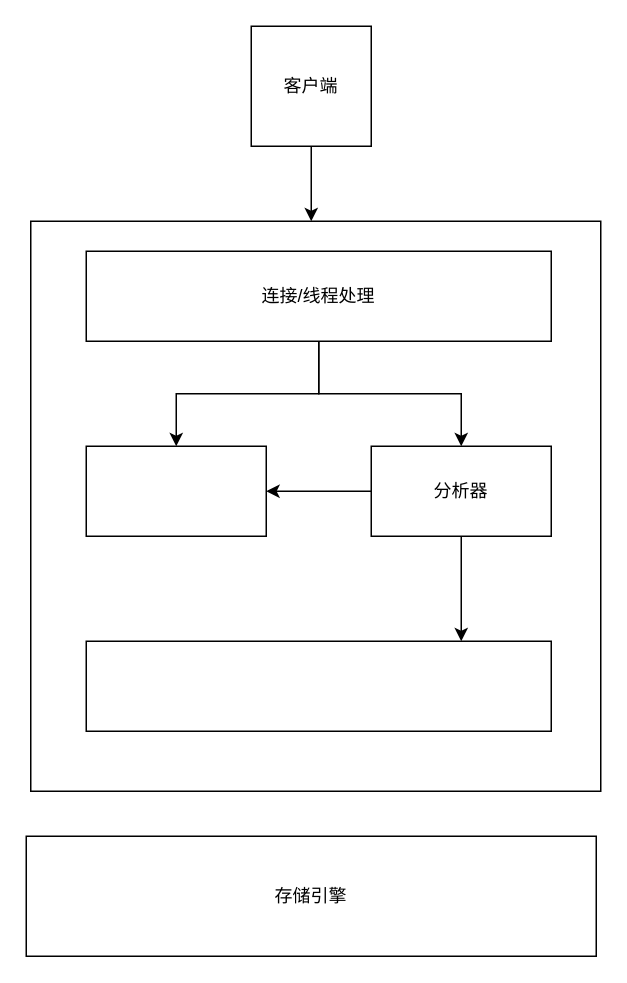
Some shapes in this 627 by 983 pixel diagram are drawn without their labels. The shapes that lost their labels are listed below. From the top down, each one's centre as x and y in pixels, then its label:
At [175,490]: "查询缓存".
At [318,685]: "优化器".
